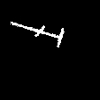double_crochet: (11, 22, 63, 46)
